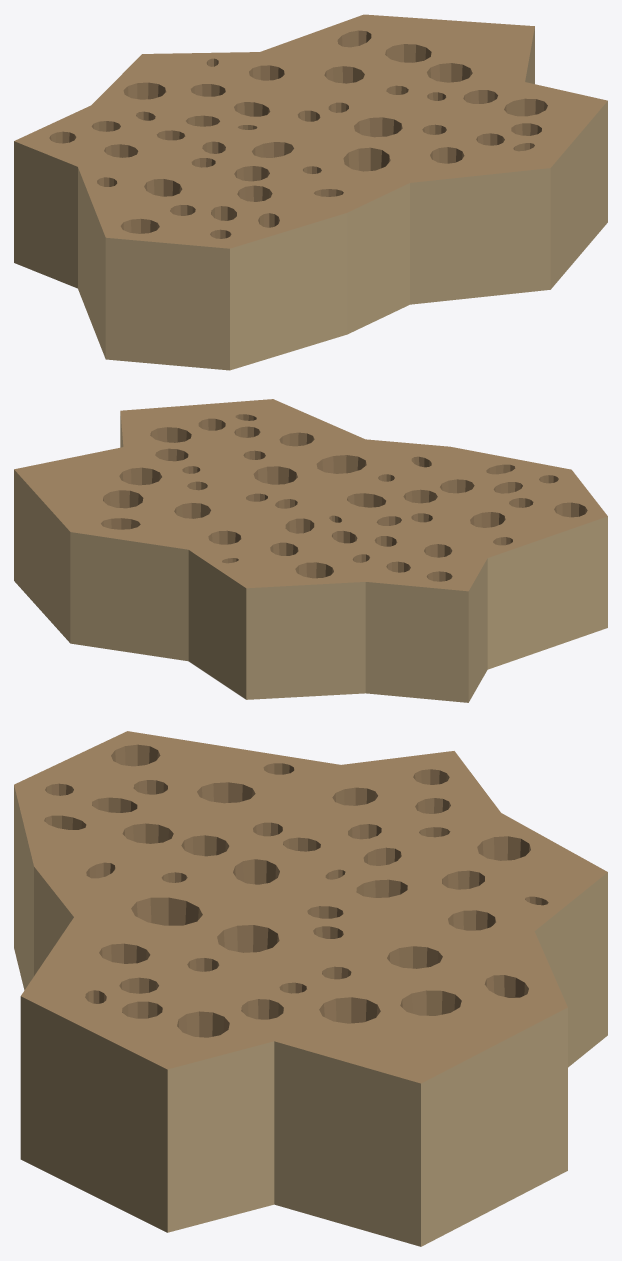
Rendered from quatsinoporites.glb.
3 renders of one model, top to bottom at view 1: azimuth 30°, elevation 25°; view 2: azimuth 150°, elevation 25°; view 3: azimuth 270°, elevation 25°, orthographic. The views are drawn at different scales.
Visible parts, largest first — view 1: abraded-fractured-pore-layer; view 2: abraded-fractured-pore-layer; view 3: abraded-fractured-pore-layer.
Boxes of the visible parts, <box> form: abraded-fractured-pore-layer: <box>14,14,607,370</box>; abraded-fractured-pore-layer: <box>14,399,607,702</box>; abraded-fractured-pore-layer: <box>14,731,607,1246</box>.
Size of the model in its own units: 0.125 by 0.027 by 0.089.
